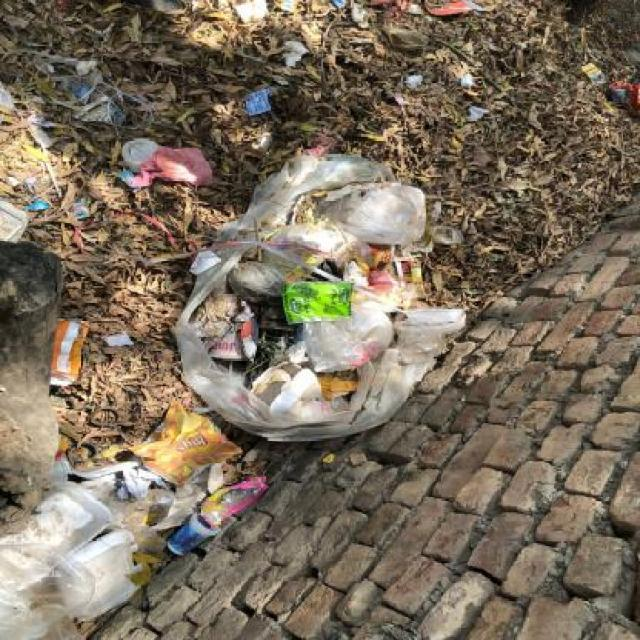garbage: (2, 2, 640, 234), (177, 148, 476, 438), (1, 465, 146, 632), (148, 409, 262, 546), (97, 128, 212, 202), (53, 311, 100, 406)
